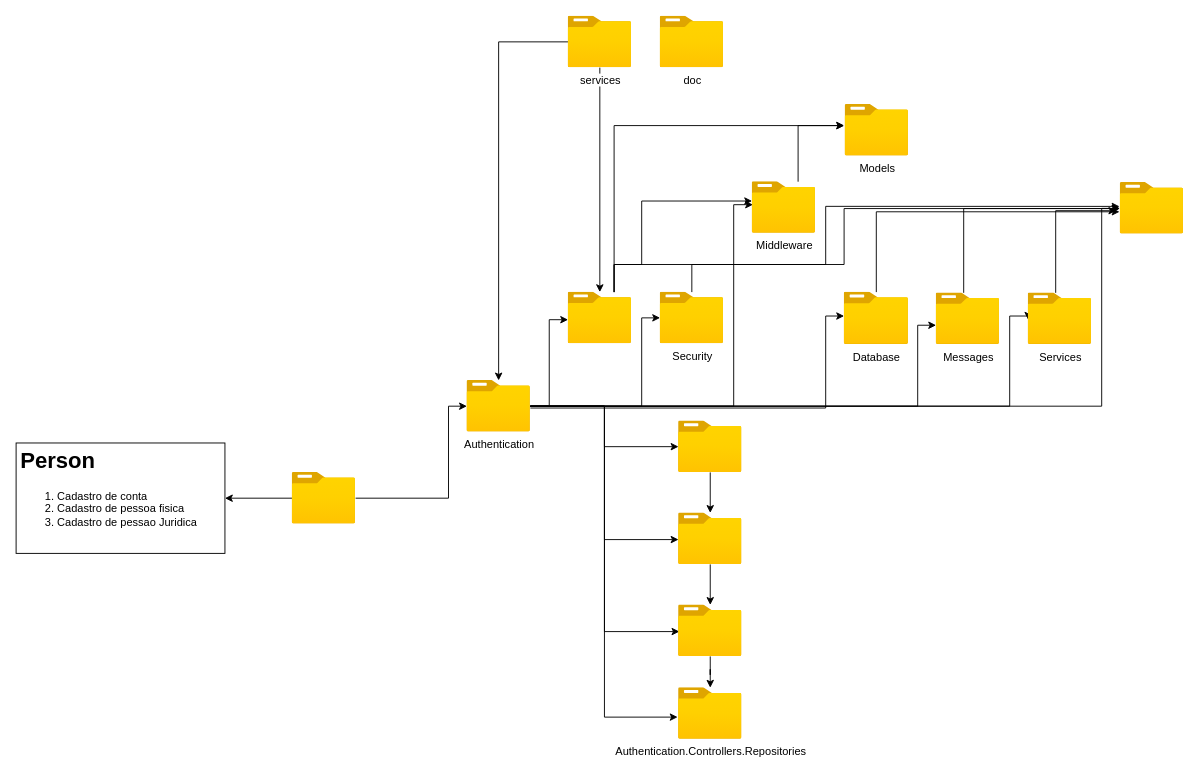
Some shapes in this 1200 by 774 pixel diagram are drawn without their labels. The shapes that lost their labels are listed below. From the top down, each one's box as (x1, y1, x2, y2) in pixels, then its label:
(1120, 182, 1183, 233): Interfaces
(568, 292, 631, 343): Core
(678, 420, 742, 472): Authentication.Controllers
(292, 472, 355, 523): Person
(678, 512, 742, 564): Authentication.Controllers.Models
(678, 604, 742, 656): Authentication.Controllers.Rules
